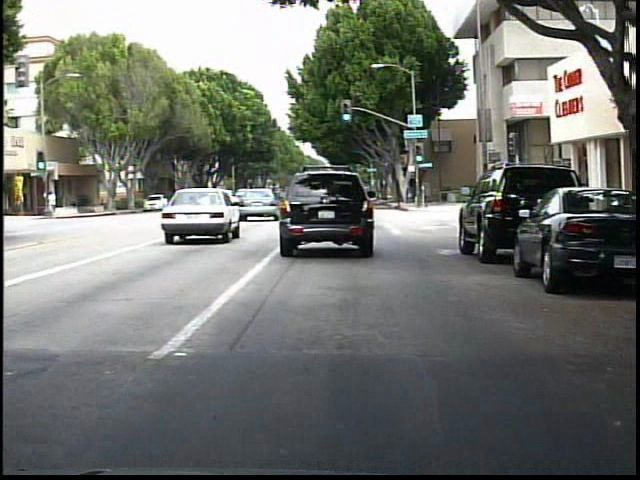person: (50, 188, 61, 217)
